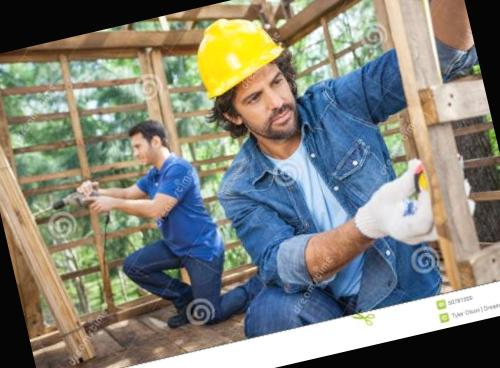no_helmet: (122, 110, 176, 172)
